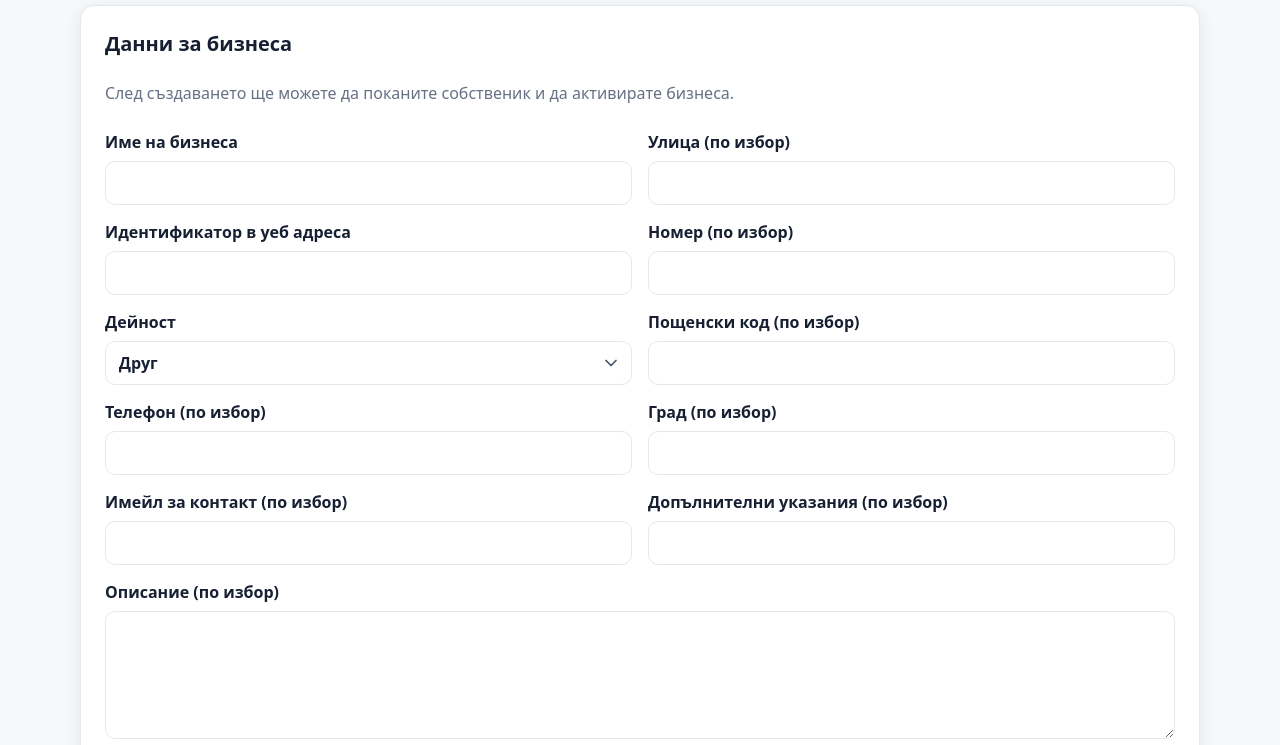
Scenario: BusinessCreate › shows safe validation and slug-conflict feedback without internal details
Type "Студио А" into the field labelled "Име на бизнеса" at {"x": 368, "y": 183}, box [105, 161, 632, 205]
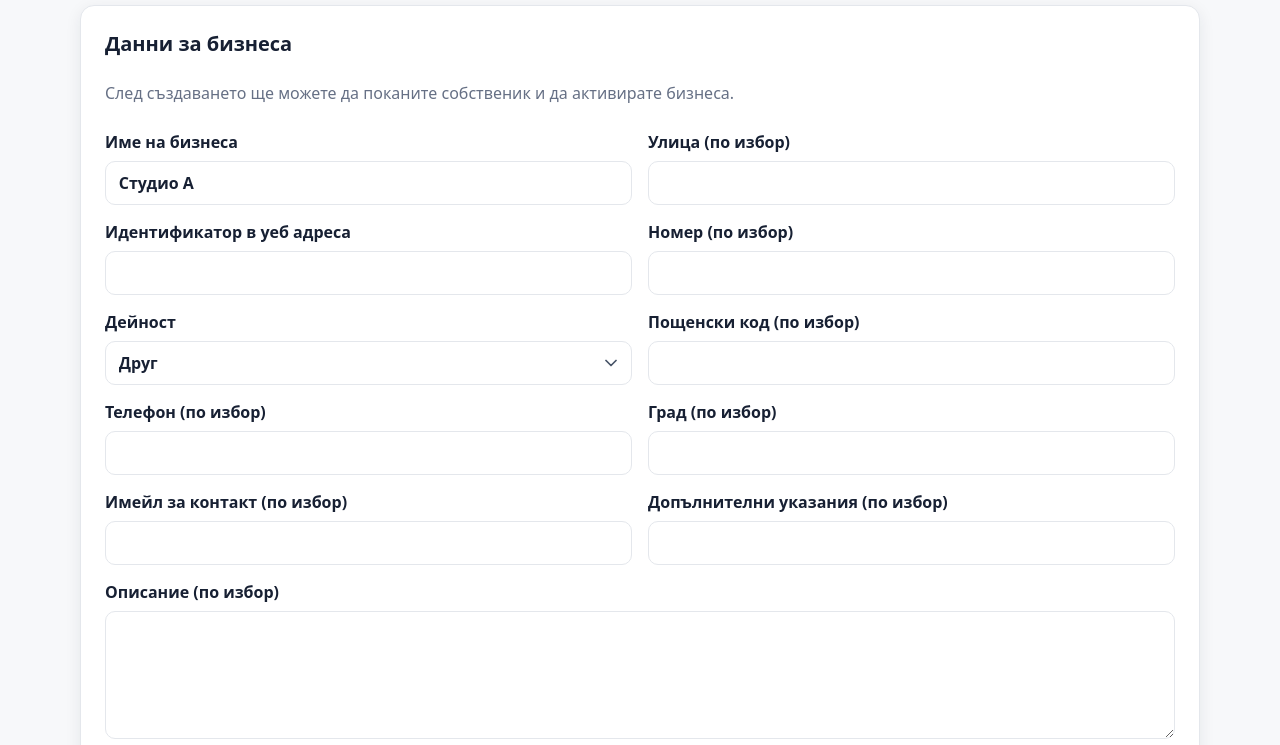
Type "studio-a" into the field labelled "Идентификатор в уеб адреса" at {"x": 368, "y": 273}, box [105, 251, 632, 295]
(page scrolled)
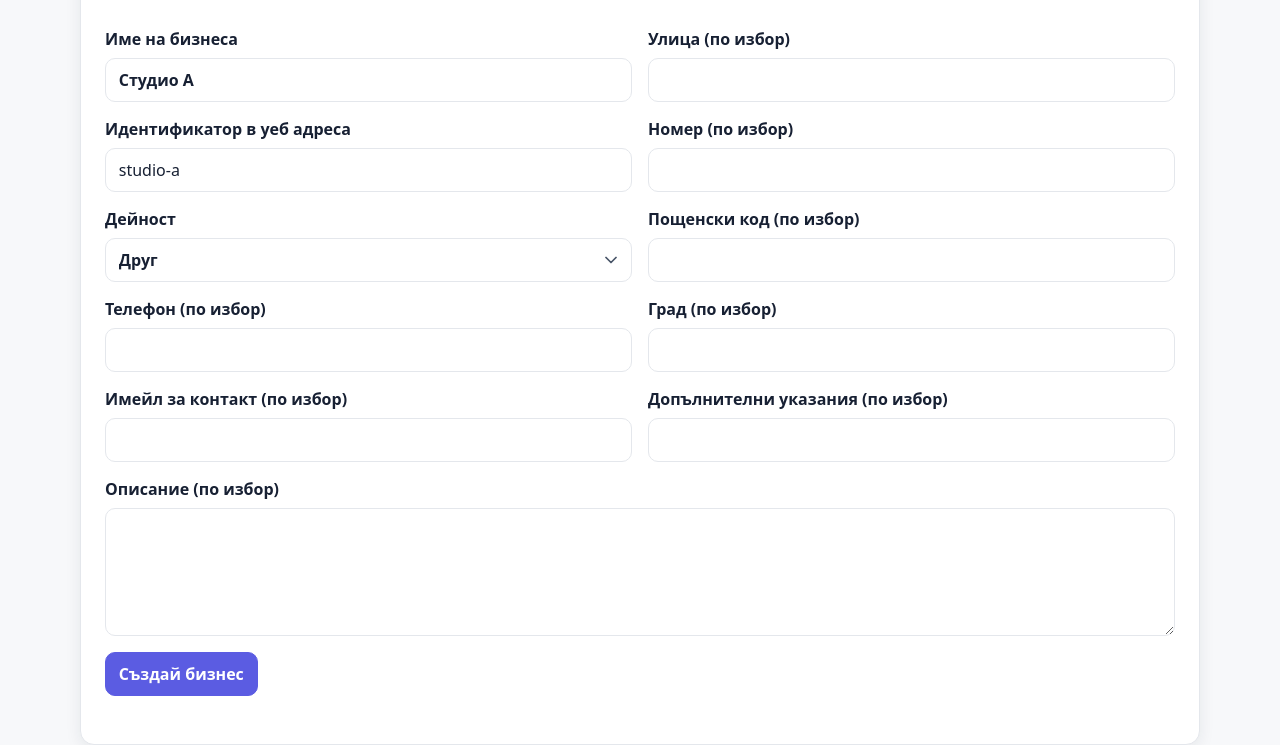
Click the button "Създай бизнес" at {"x": 181, "y": 674}, box [105, 652, 258, 696]
(page scrolled)
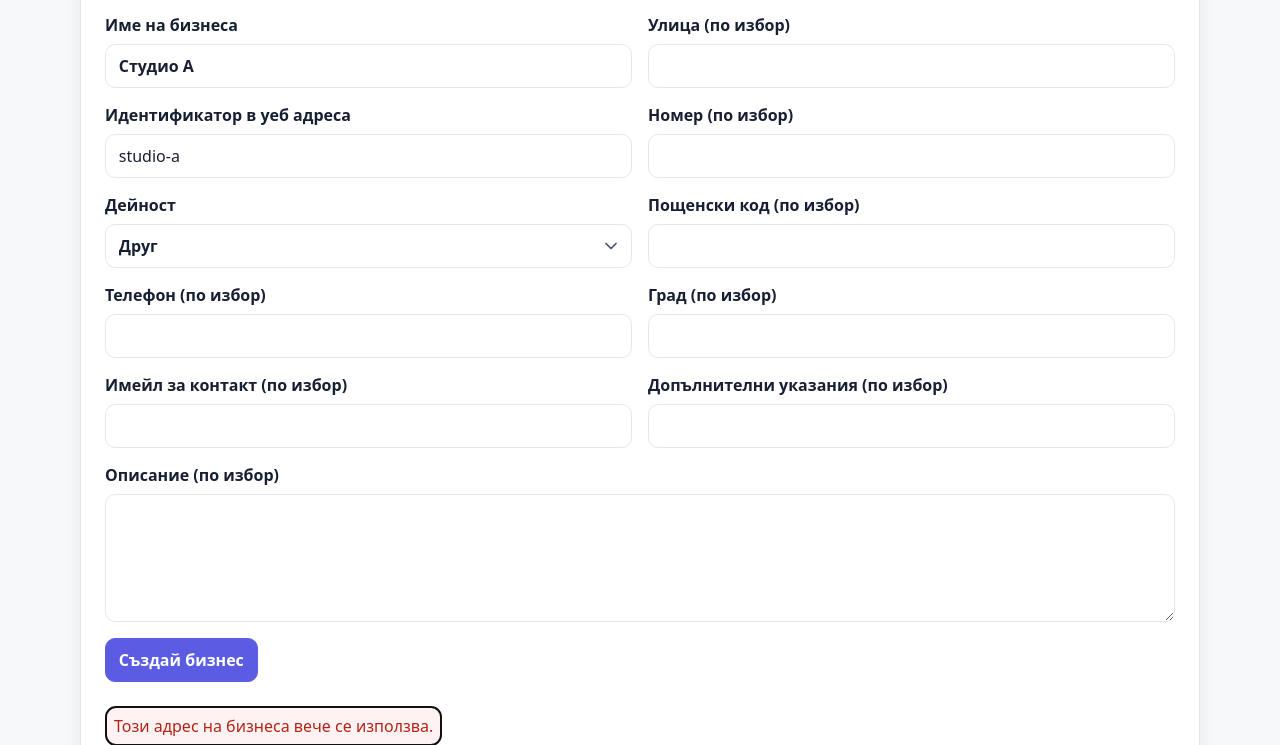
Check: the message reads "Този адрес на бизнеса вече се използва.", box [114, 715, 433, 737]
Click the button "Създай бизнес" at {"x": 181, "y": 660}, box [105, 638, 258, 682]
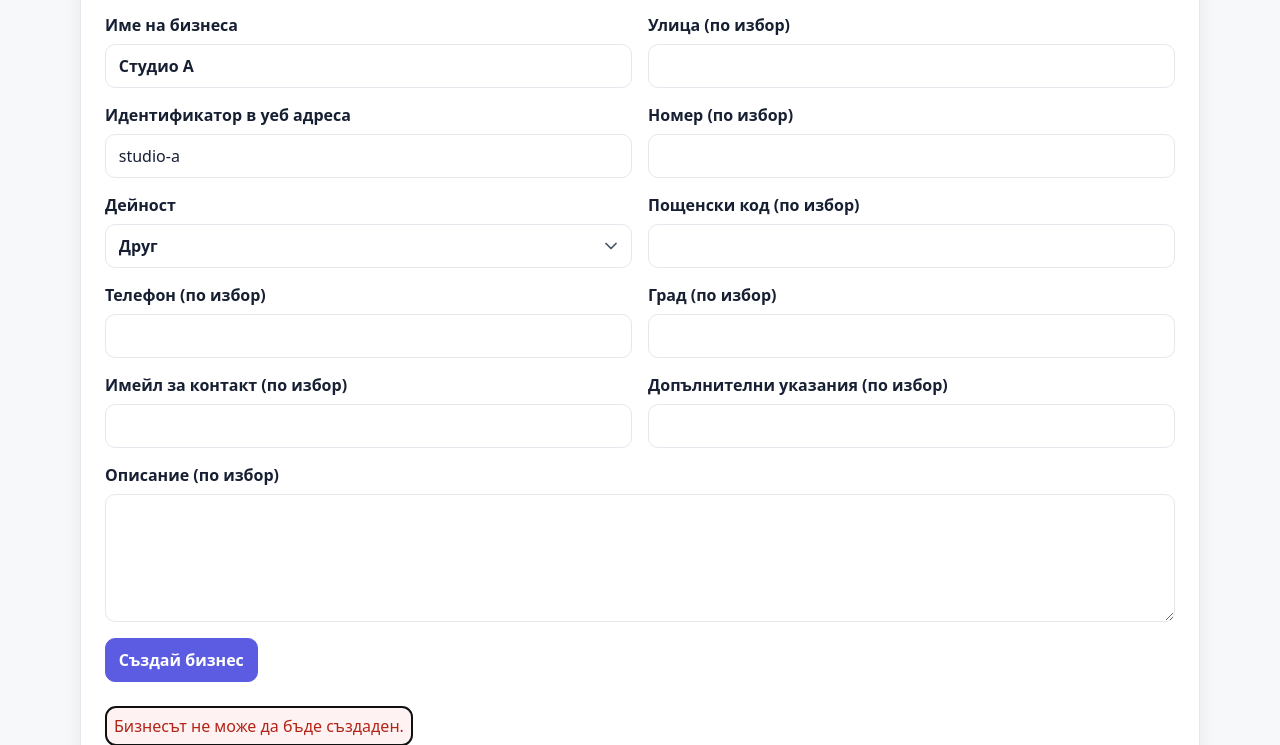
Check: the message reads "Бизнесът не може да бъде създаден.", box [114, 715, 404, 737]
